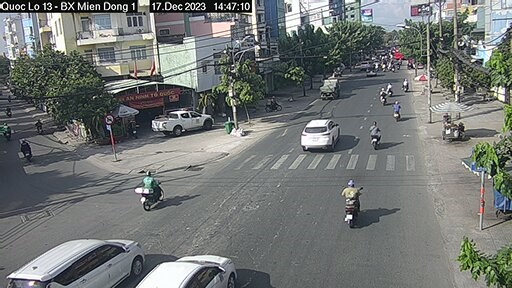car: (10, 240, 149, 284), (128, 243, 237, 288), (151, 105, 217, 134), (303, 107, 337, 158)
motorbike: (126, 170, 166, 209), (333, 175, 361, 225), (367, 117, 381, 150)
truck: (318, 74, 340, 100)
